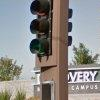Traffic light: (23, 2, 78, 61)
